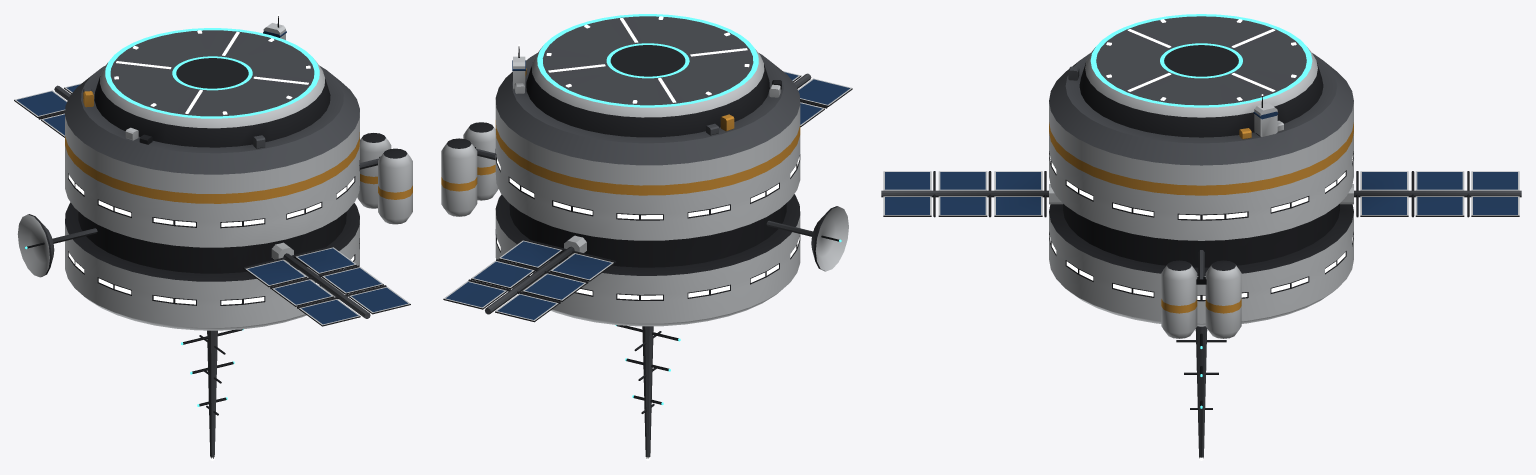
The model's file is station_outpost.glb.
The picture shows the model from 3 angles, left to right: view 1: azimuth 30°, elevation 25°; view 2: azimuth 150°, elevation 25°; view 3: azimuth 270°, elevation 25°; orthographic projection. The views are drawn at different scales.
Parts seen in each view (by area): view 1: station_outpost_mesh; view 2: station_outpost_mesh; view 3: station_outpost_mesh.
Boxes of the visible parts, x1,y1,x2,y2 form: station_outpost_mesh: (14,14,412,460); station_outpost_mesh: (441,14,852,460); station_outpost_mesh: (881,14,1521,460).
Size of the model in its own units: 322 by 330 by 462.
